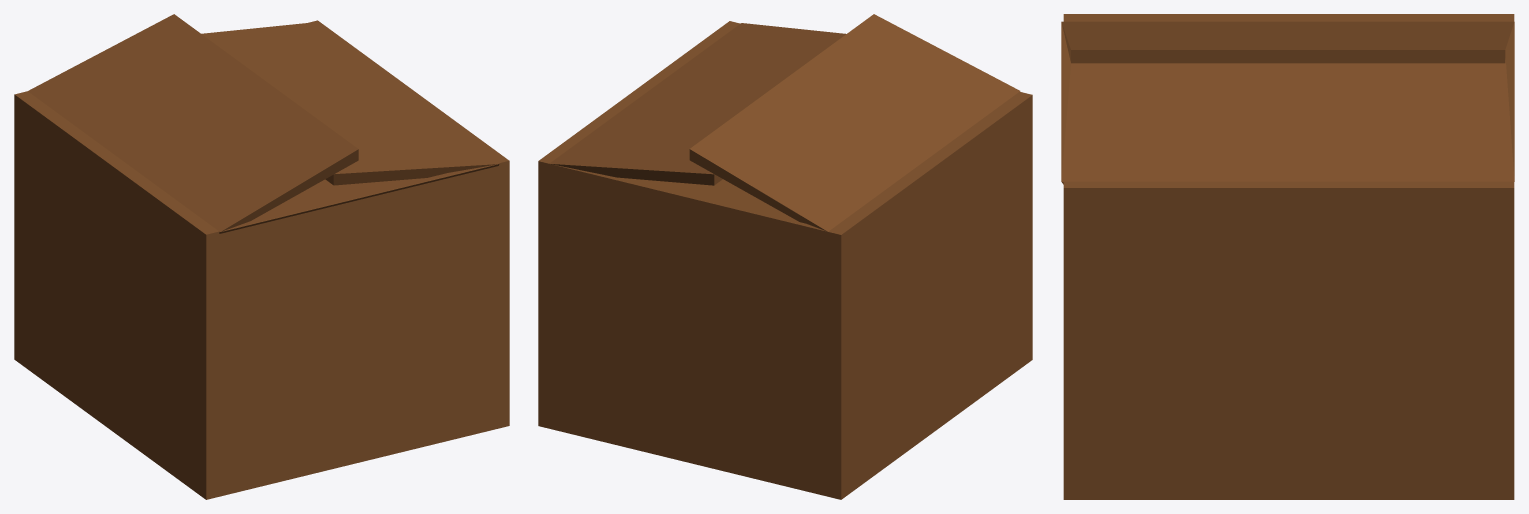
3 renders of one model, left to right at view 1: azimuth 30°, elevation 25°; view 2: azimuth 150°, elevation 25°; view 3: azimuth 270°, elevation 25°, orthographic. The views are drawn at different scales.
Visible parts, largest first — view 1: Cube; view 2: Cube; view 3: Cube.
Part boxes in pixels (bbox=[...]): Cube: bbox=[14, 14, 509, 499]; Cube: bbox=[538, 14, 1032, 499]; Cube: bbox=[1061, 14, 1514, 499].
Size of the model in its own units: 407 by 398 by 448.
